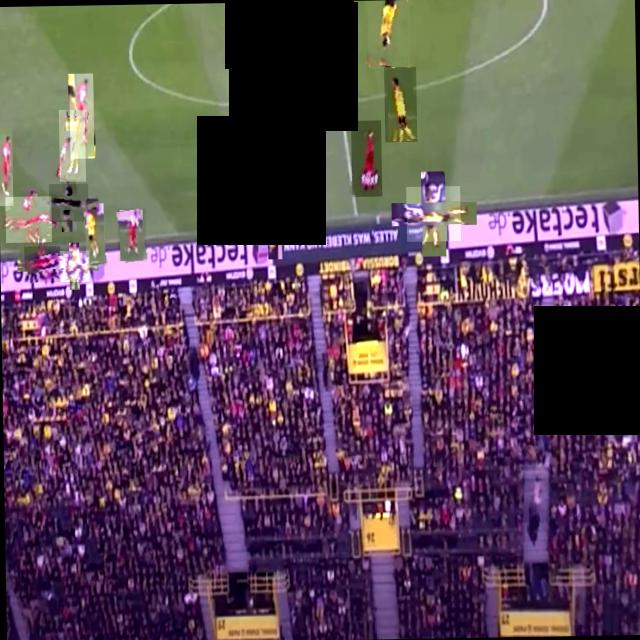ball: (282, 204, 296, 218)
referee: (48, 182, 88, 221)
soccer-player: (404, 184, 460, 240), (365, 0, 409, 67), (382, 65, 416, 141), (350, 118, 380, 196), (4, 194, 51, 242), (68, 72, 94, 157), (200, 168, 227, 238), (58, 108, 84, 180), (248, 167, 274, 234), (116, 208, 145, 260), (22, 244, 59, 282), (83, 202, 104, 263), (58, 249, 88, 281), (0, 126, 12, 204), (266, 207, 281, 258)
